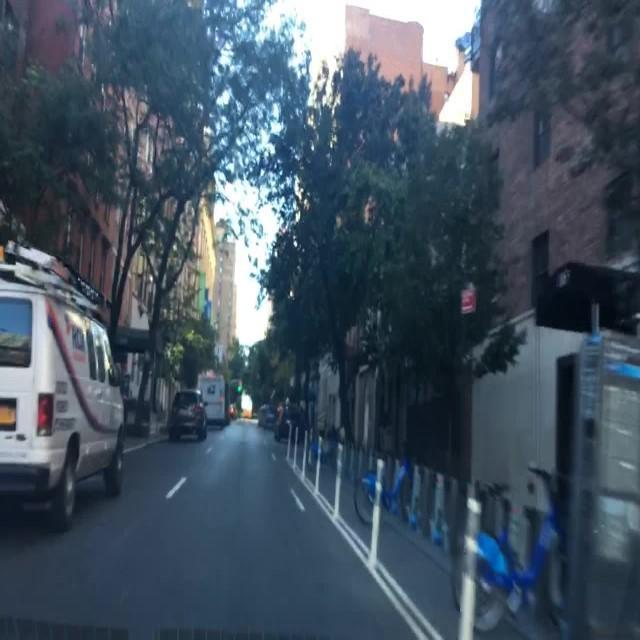normal: (0, 245, 123, 535), (170, 389, 210, 442)
